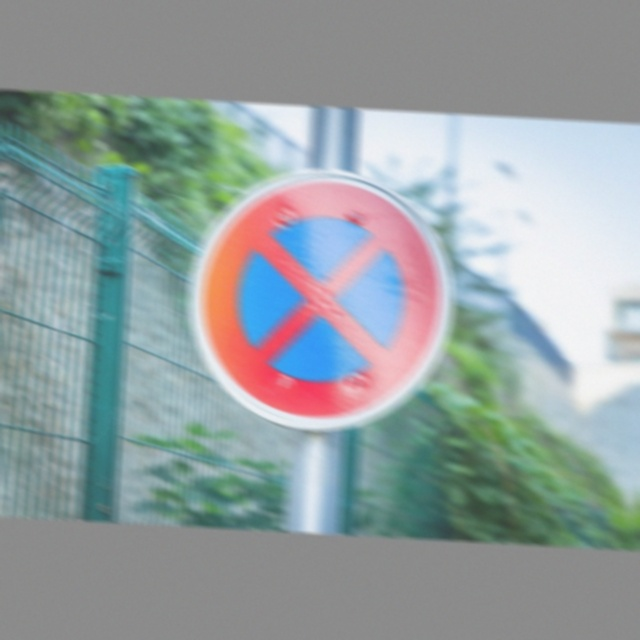No_Stopping_or_Standing: (188, 180, 459, 424)
